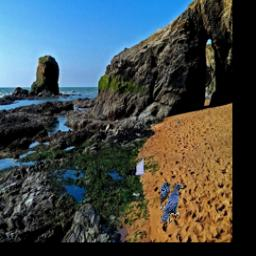Crow: (113, 83, 143, 175), (160, 184, 183, 225)
